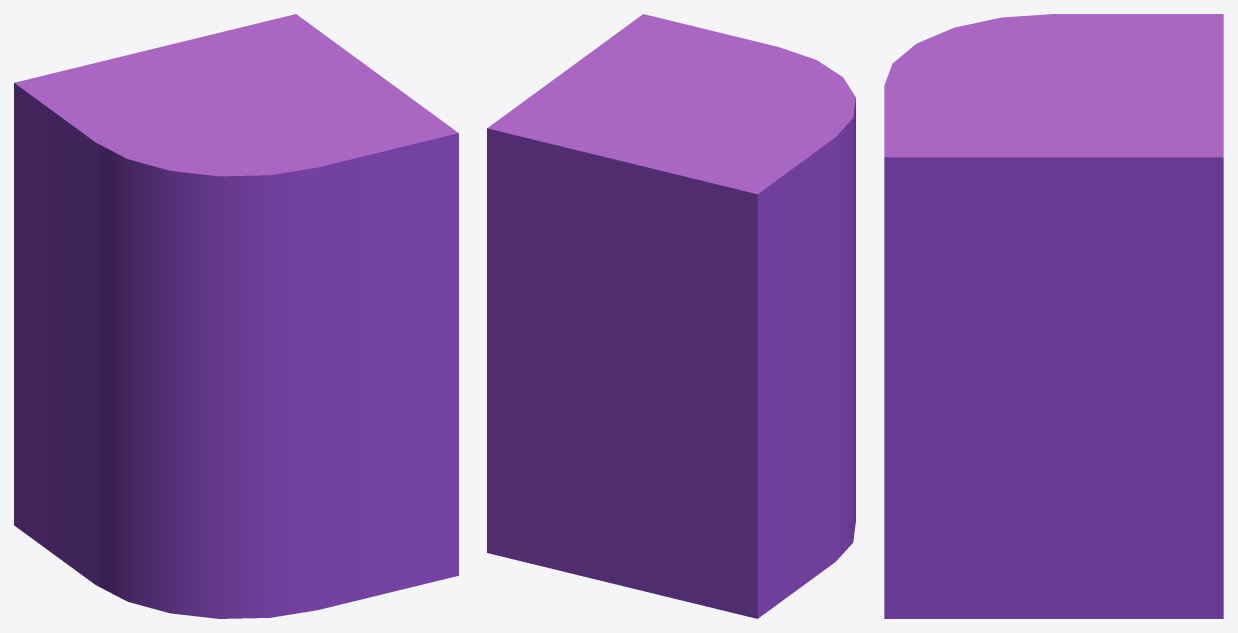
Rendered from meshCorner.fbx.
The picture shows the model from 3 angles, left to right: view 1: azimuth 30°, elevation 25°; view 2: azimuth 150°, elevation 25°; view 3: azimuth 270°, elevation 25°; orthographic projection. The views are drawn at different scales.
Parts seen in each view (by area): view 1: meshCorner; view 2: meshCorner; view 3: meshCorner.
Part boxes in pixels (x1,y1,x2,y2): meshCorner: (14,14,458,618); meshCorner: (487,14,855,618); meshCorner: (884,14,1223,618).
Bounding box in the file's own units: 2 × 3 × 2.
1 material, 1 textured.
